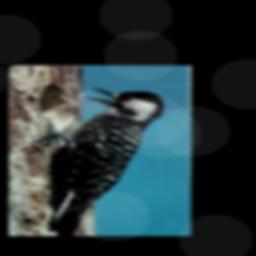Woodpecker: (31, 84, 170, 235)
